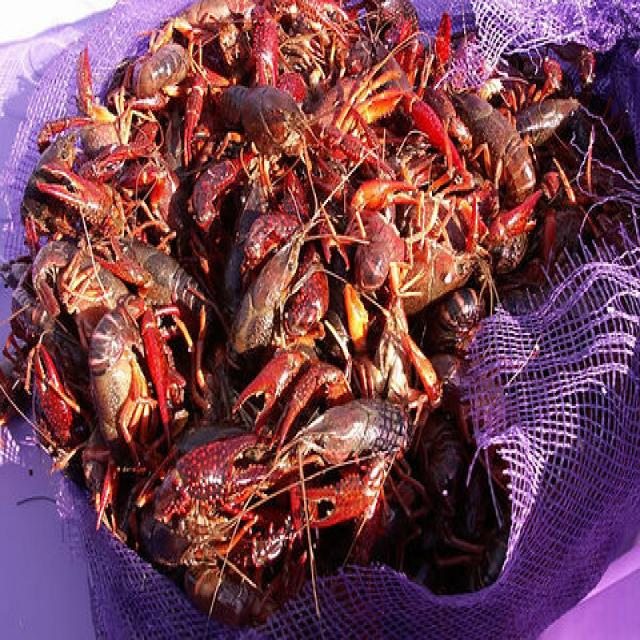Crawfish: (0, 0, 629, 625)
